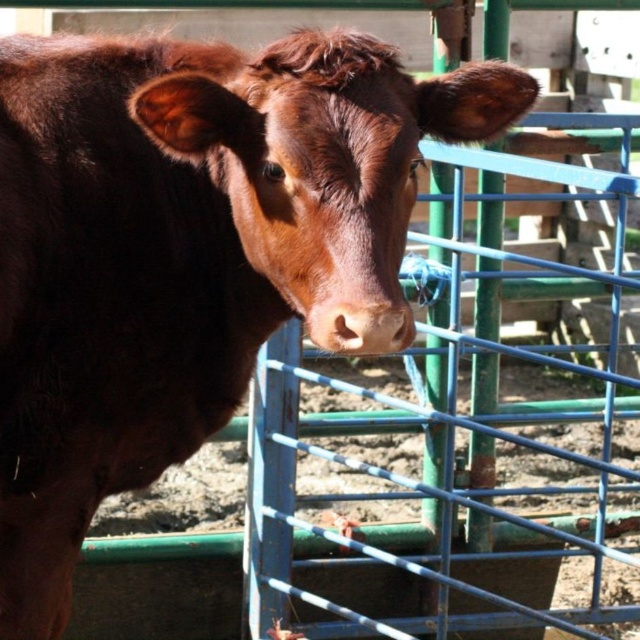Cattle: (0, 11, 540, 618)
